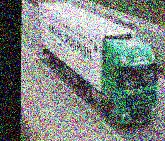truck: (37, 3, 159, 126)
